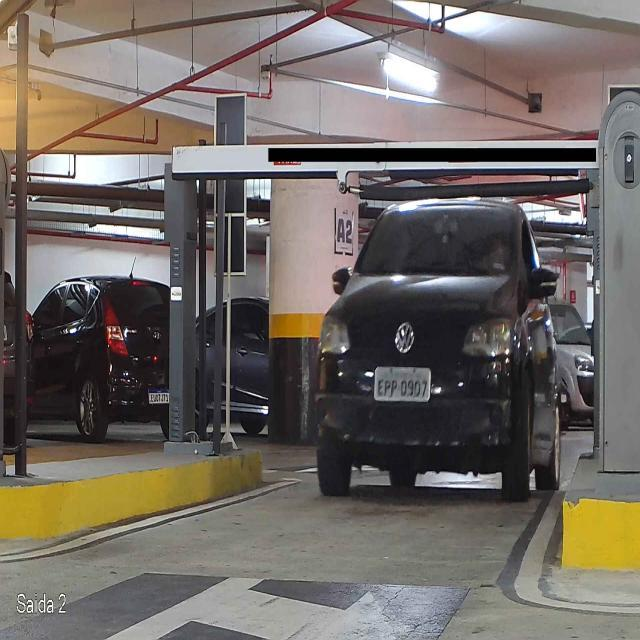old_plate: (373, 364, 434, 404)
